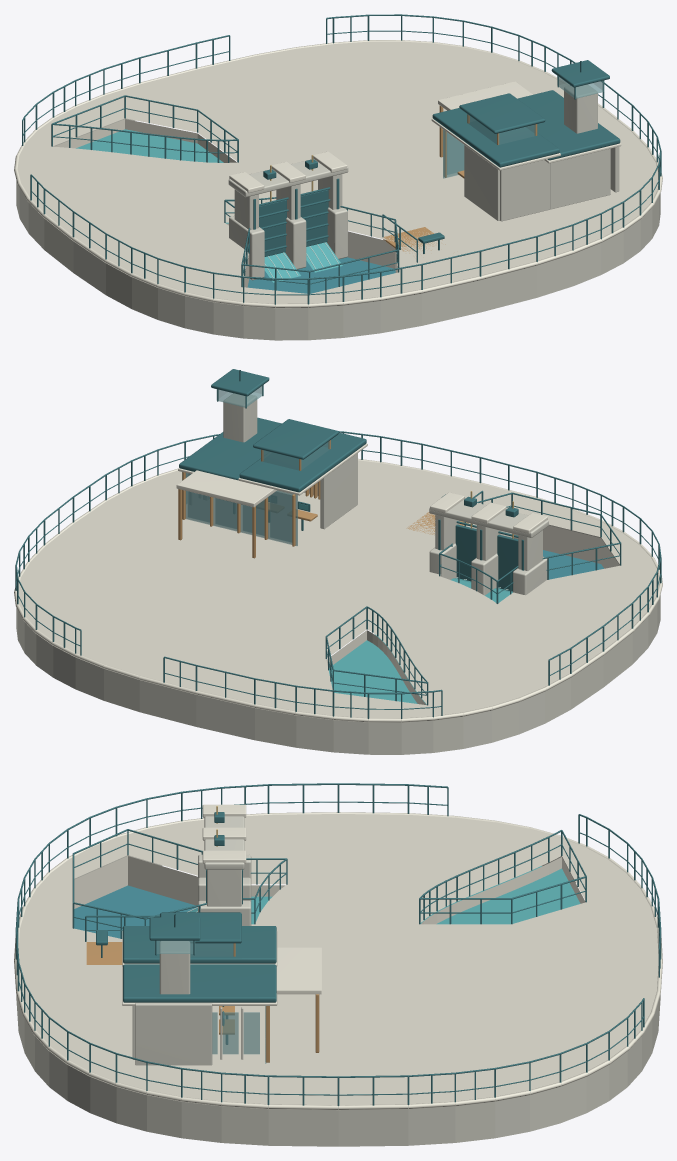
Rendered from flood-control-g.glb.
3 renders of one model, top to bottom at view 1: azimuth 30°, elevation 25°; view 2: azimuth 150°, elevation 25°; view 3: azimuth 270°, elevation 25°, orthographic. The views are drawn at different scales.
Parts seen in each view (by area): view 1: Terrain_Foundation_Components__Warm limestone paving, Terrain_Foundation_Components__Warm pale precast concrete, Walkways_Railings_Components__Deep teal coated steel, CommandCenter_Components__Warm pale precast concrete, CommandCenter_Components__Deep teal coated steel, SluiceGate_Components__Warm pale precast concrete, Terrain_Foundation_Components__Chalk coping, WaterChannels_Components__Clear jade water low-cost opaque, SluiceGate_Components__Deep teal coated steel, WaterChannels_Components__Chalk coping, WaterChannels_Components__Deep water blue, CommandCenter_Components__Blue green glass (+3 smaller); view 2: Terrain_Foundation_Components__Warm limestone paving, Terrain_Foundation_Components__Warm pale precast concrete, Walkways_Railings_Components__Deep teal coated steel, CommandCenter_Components__Deep teal coated steel, SluiceGate_Components__Warm pale precast concrete, Terrain_Foundation_Components__Chalk coping, CommandCenter_Components__Blue green glass, CommandCenter_Components__Warm pale precast concrete, WaterChannels_Components__Clear jade water low-cost opaque, WaterChannels_Components__Chalk coping, SluiceGate_Components__Deep teal coated steel, CommandCenter_Components__Chalk coping (+3 smaller); view 3: Terrain_Foundation_Components__Warm limestone paving, Terrain_Foundation_Components__Warm pale precast concrete, Walkways_Railings_Components__Deep teal coated steel, CommandCenter_Components__Deep teal coated steel, CommandCenter_Components__Warm pale precast concrete, Terrain_Foundation_Components__Chalk coping, WaterChannels_Components__Chalk coping, WaterChannels_Components__Clear jade water low-cost opaque, SluiceGate_Components__Warm pale precast concrete, WaterChannels_Components__Deep water blue, CommandCenter_Components__Chalk coping, CommandCenter_Components__Blue green glass (+3 smaller).
Boxes of the visible parts, left/top/right/bottom form: Terrain_Foundation_Components__Warm limestone paving: left=17, top=41, right=658, bottom=303; Terrain_Foundation_Components__Warm pale precast concrete: left=16, top=118, right=660, bottom=340; Walkways_Railings_Components__Deep teal coated steel: left=22, top=14, right=661, bottom=304; CommandCenter_Components__Warm pale precast concrete: left=464, top=84, right=619, bottom=221; CommandCenter_Components__Deep teal coated steel: left=432, top=60, right=620, bottom=167; SluiceGate_Components__Warm pale precast concrete: left=228, top=159, right=348, bottom=280; Terrain_Foundation_Components__Chalk coping: left=14, top=40, right=662, bottom=308; WaterChannels_Components__Clear jade water low-cost opaque: left=76, top=129, right=342, bottom=282; SluiceGate_Components__Deep teal coated steel: left=253, top=159, right=339, bottom=256; WaterChannels_Components__Chalk coping: left=55, top=119, right=397, bottom=287; WaterChannels_Components__Deep water blue: left=247, top=257, right=395, bottom=293; CommandCenter_Components__Blue green glass: left=443, top=76, right=604, bottom=178; Terrain_Foundation_Components__Warm limestone paving: left=18, top=460, right=659, bottom=718; Terrain_Foundation_Components__Warm pale precast concrete: left=16, top=524, right=660, bottom=754; Walkways_Railings_Components__Deep teal coated steel: left=15, top=431, right=661, bottom=718; CommandCenter_Components__Deep teal coated steel: left=179, top=369, right=366, bottom=530; SluiceGate_Components__Warm pale precast concrete: left=429, top=500, right=548, bottom=595; Terrain_Foundation_Components__Chalk coping: left=14, top=458, right=662, bottom=722; CommandCenter_Components__Blue green glass: left=182, top=385, right=329, bottom=545; CommandCenter_Components__Warm pale precast concrete: left=223, top=393, right=357, bottom=529; WaterChannels_Components__Clear jade water low-cost opaque: left=328, top=578, right=512, bottom=704; WaterChannels_Components__Chalk coping: left=326, top=525, right=619, bottom=704; SluiceGate_Components__Deep teal coated steel: left=438, top=496, right=523, bottom=591; CommandCenter_Components__Chalk coping: left=176, top=443, right=367, bottom=507; Terrain_Foundation_Components__Warm limestone paving: left=18, top=814, right=658, bottom=1105; Terrain_Foundation_Components__Warm pale precast concrete: left=16, top=855, right=660, bottom=1146; Walkways_Railings_Components__Deep teal coated steel: left=15, top=783, right=661, bottom=1106; CommandCenter_Components__Deep teal coated steel: left=123, top=912, right=276, bottom=1044; CommandCenter_Components__Warm pale precast concrete: left=132, top=941, right=243, bottom=1065; Terrain_Foundation_Components__Chalk coping: left=14, top=812, right=662, bottom=1110; WaterChannels_Components__Chalk coping: left=74, top=856, right=585, bottom=924; WaterChannels_Components__Clear jade water low-cost opaque: left=186, top=866, right=580, bottom=924; SluiceGate_Components__Warm pale precast concrete: left=198, top=816, right=251, bottom=925; WaterChannels_Components__Deep water blue: left=74, top=885, right=196, bottom=938; CommandCenter_Components__Chalk coping: left=122, top=931, right=321, bottom=1005; CommandCenter_Components__Blue green glass: left=154, top=940, right=266, bottom=1063.
Size of the model in its own units: 28.2 by 8 by 26.2.
